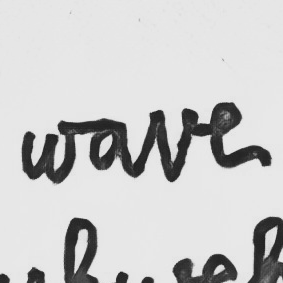a: (87, 115, 133, 173)
e: (207, 99, 255, 170)
v: (147, 105, 200, 184)
w: (18, 118, 80, 185)
